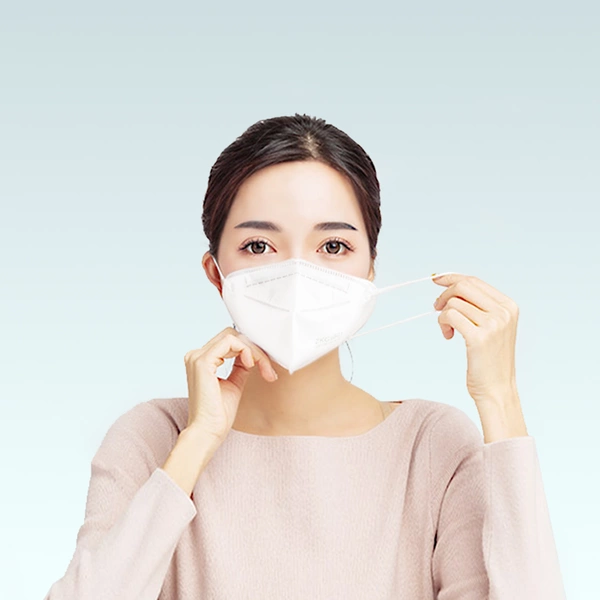mask: (213, 253, 381, 370)
